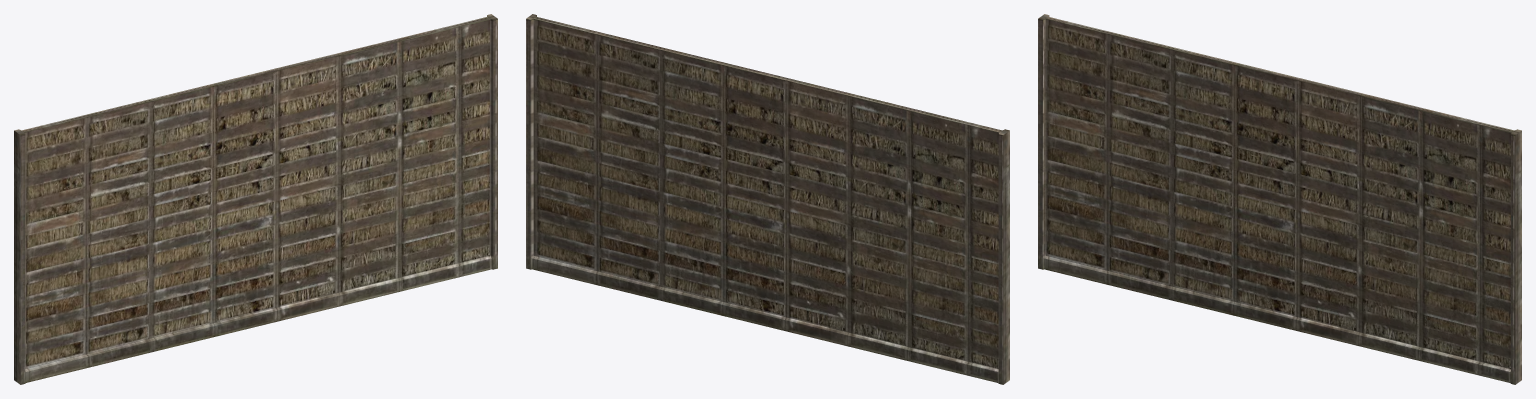
File: TW2_1_HUT_05_7-transformed.glb
3 views of the same model, side by side, from view 1: azimuth 30°, elevation 25°; view 2: azimuth 150°, elevation 25°; view 3: azimuth 330°, elevation 25° (orthographic).
Visible parts, largest first — view 1: default; view 2: default; view 3: default.
Boxes of the visible parts, x1,y1,x2,y2 form: default: (14,14,497,384); default: (526,14,1009,384); default: (1038,14,1521,384).
Size of the model in its own units: 4.61 by 2.31 by 0.109.
Materials: 1 (1 with a texture image).
